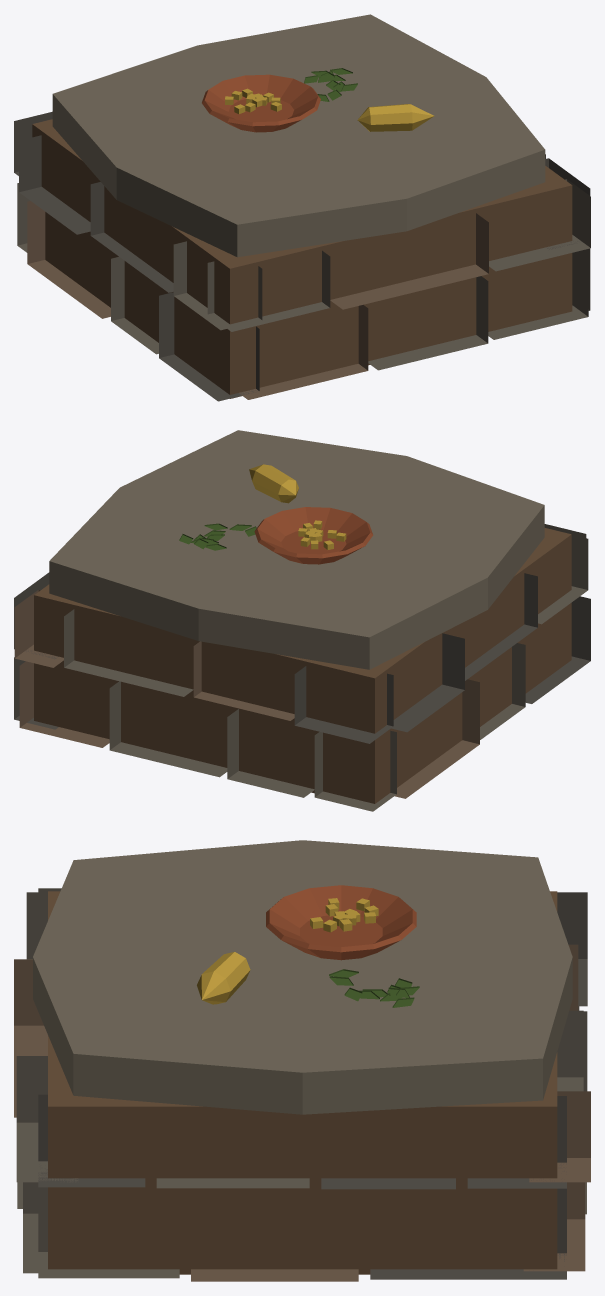
Rendered from pch_offering_shrine.glb.
3 views of the same model, one above another, from view 1: azimuth 30°, elevation 25°; view 2: azimuth 150°, elevation 25°; view 3: azimuth 270°, elevation 25° (orthographic). The views are drawn at different scales.
Visible parts, largest first — view 1: pch_offering_shrine; view 2: pch_offering_shrine; view 3: pch_offering_shrine.
Boxes of the visible parts, x1,y1,x2,y2 form: pch_offering_shrine: (14,14,590,401); pch_offering_shrine: (14,430,590,811); pch_offering_shrine: (14,840,590,1281).
Bounding box in the file's own units: 0.7426 × 0.346 × 0.7475.
